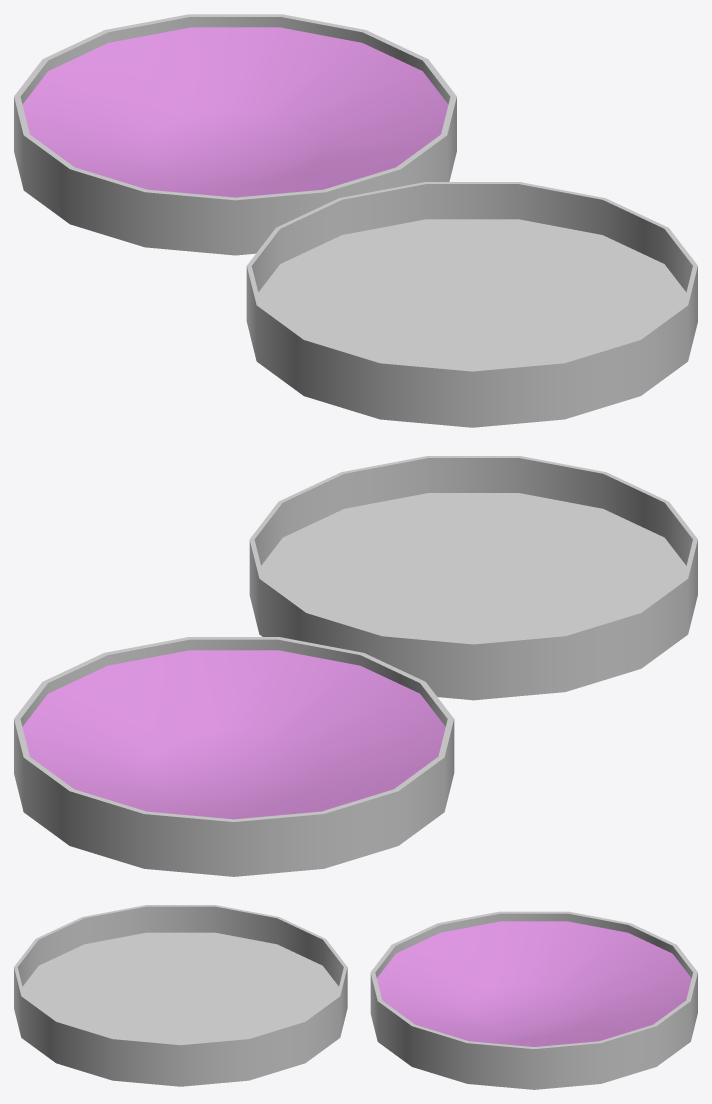
Rendered from humectadeddos.fbx.
The picture shows the model from 3 angles, top to bottom: view 1: azimuth 30°, elevation 25°; view 2: azimuth 150°, elevation 25°; view 3: azimuth 270°, elevation 25°; orthographic projection. The views are drawn at different scales.
Parts seen in each view (by area): view 1: pCylinder2, polySurface2, polySurface1; view 2: pCylinder2, polySurface2, polySurface1; view 3: pCylinder2, polySurface2, polySurface1.
Part boxes in pixels (box(x1,y1,x2,y2)): pCylinder2: box(246, 182, 697, 427); polySurface2: box(22, 27, 448, 197); polySurface1: box(14, 14, 456, 255); pCylinder2: box(249, 456, 697, 700); polySurface2: box(22, 650, 445, 819); polySurface1: box(14, 637, 454, 876); pCylinder2: box(14, 905, 347, 1086); polySurface2: box(377, 921, 691, 1046); polySurface1: box(370, 911, 697, 1089).
Bounding box in the file's own units: 2.01 × 0.3031 × 4.15.
